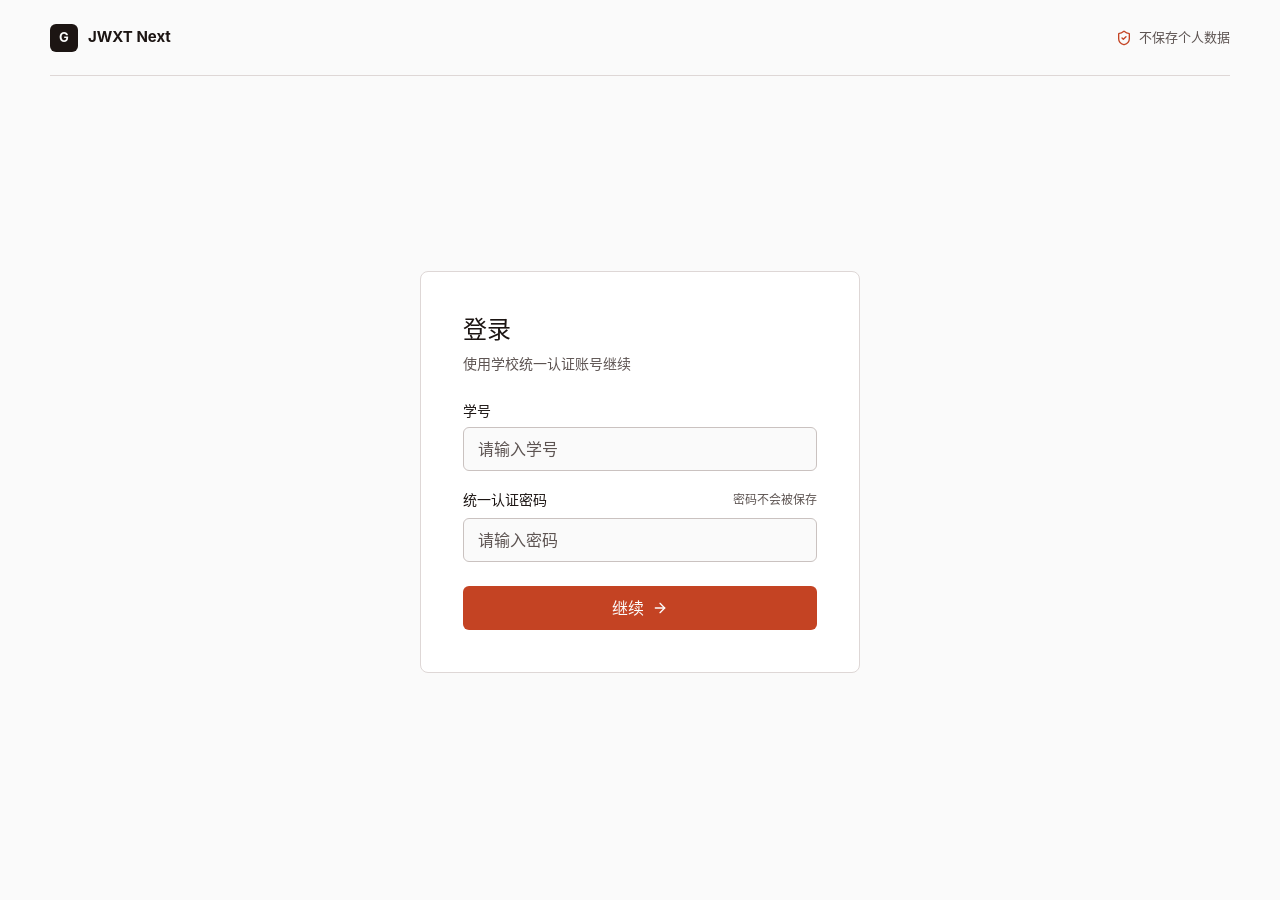
it: login page › keeps server errors in context with the request ID
Type "20260001" into the field labelled "学号". click: (640, 449)
box: x1=463 y1=427 x2=817 y2=471
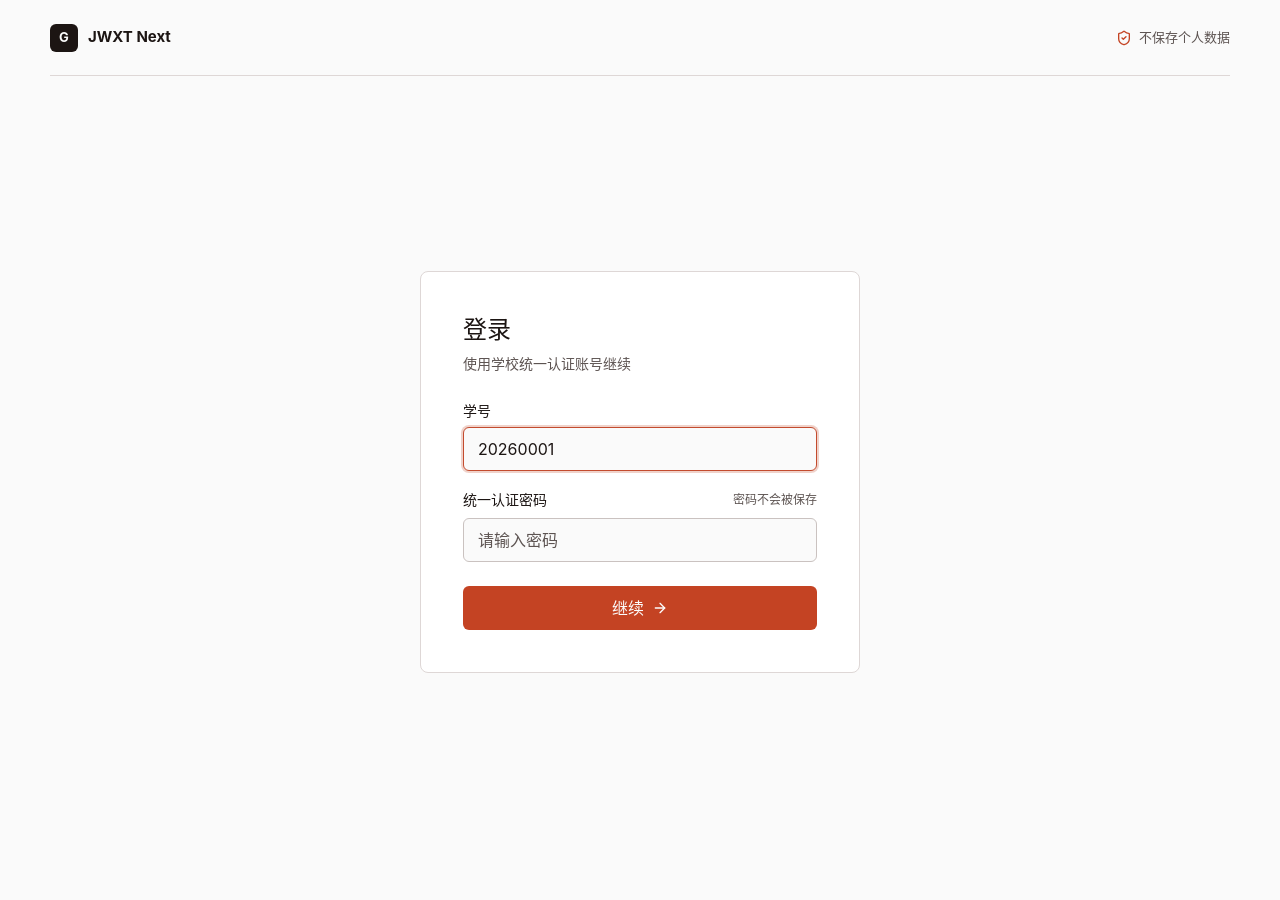
Type "wrong" into the password field labelled "统一认证密码". click: (640, 540)
box: x1=463 y1=518 x2=817 y2=562
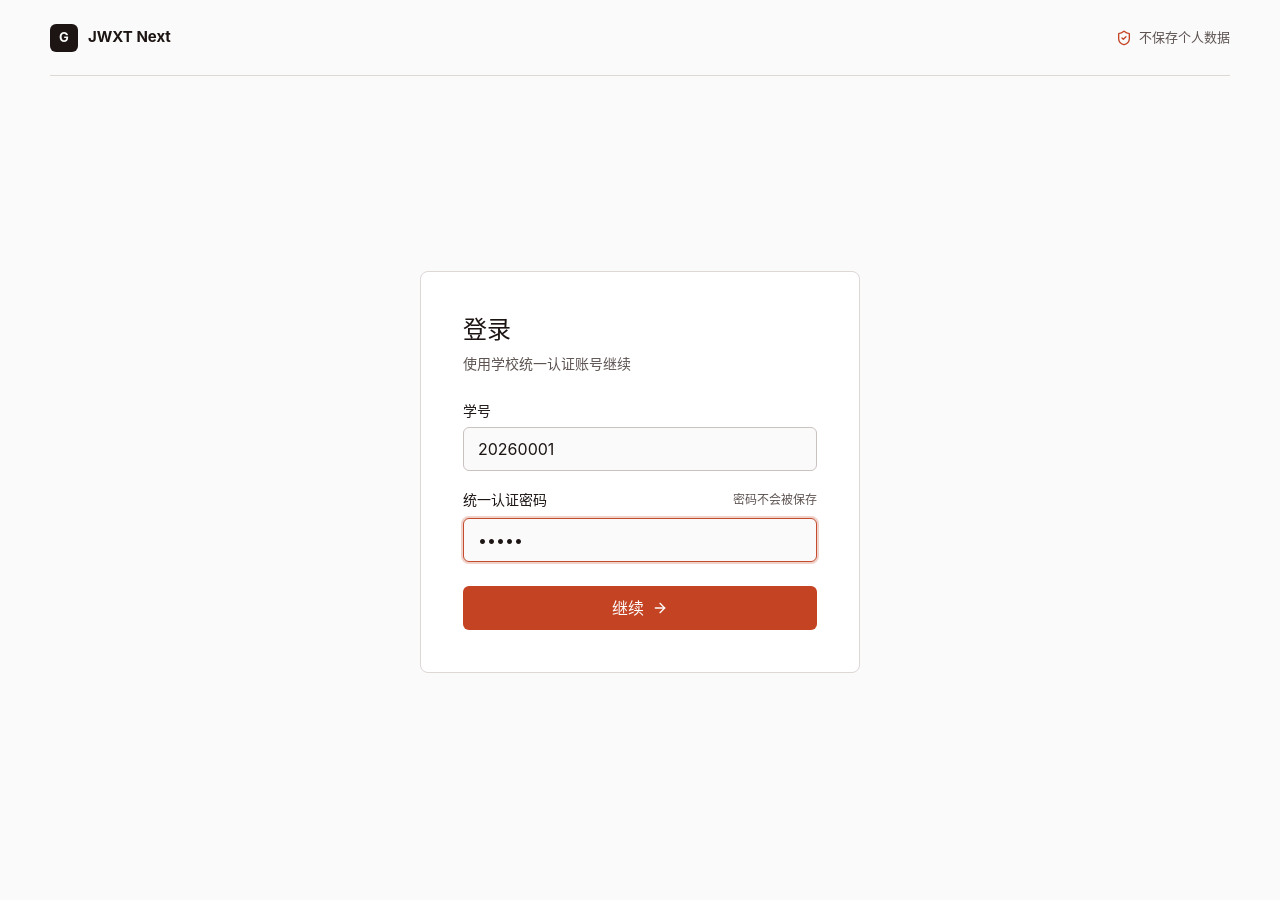
Click the button "继续". click: (640, 608)
box: x1=463 y1=586 x2=817 y2=630
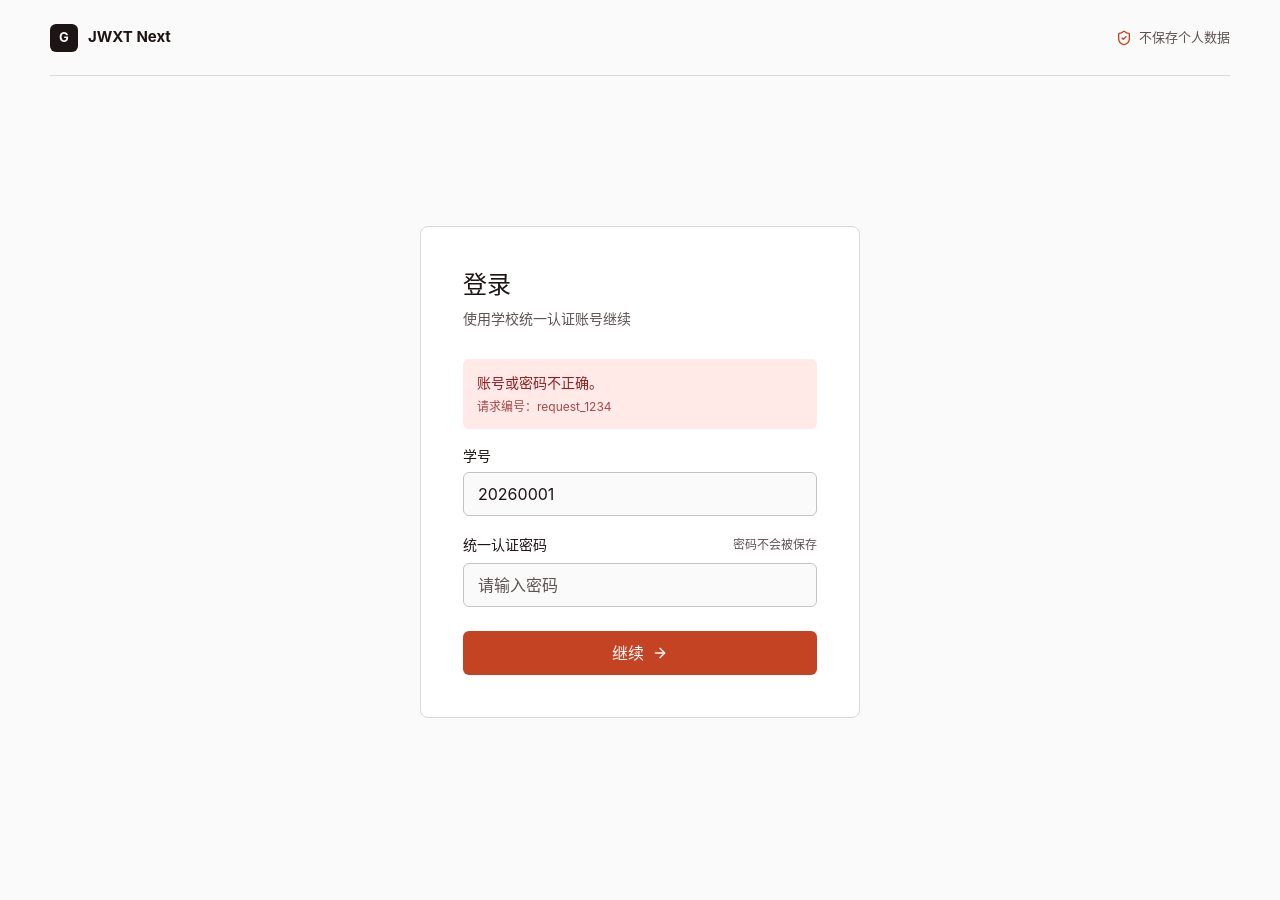
Expected: the message shows "账号或密码不正确。", x1=477 y1=374 x2=603 y2=391
Expected: the message shows "request_1234", x1=537 y1=399 x2=612 y2=414
Expected: the password field labelled "统一认证密码" is empty, x1=463 y1=563 x2=817 y2=607
